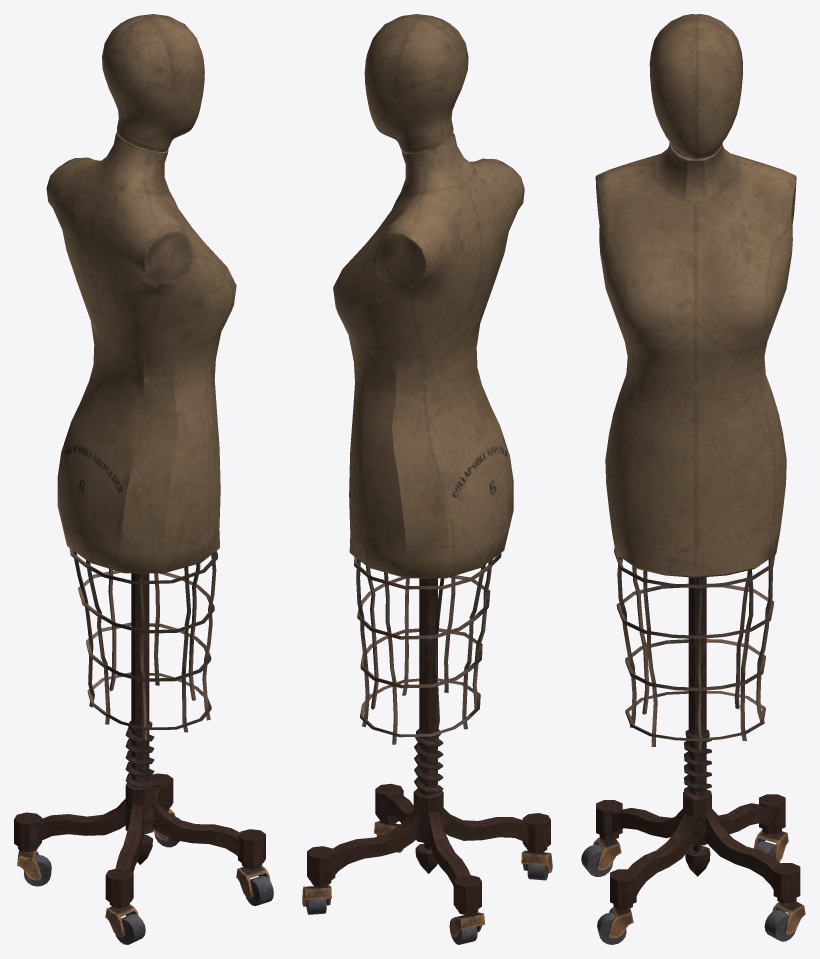
The model's file is mannequin-dress-form.glb.
The picture shows the model from 3 angles, left to right: view 1: azimuth 30°, elevation 25°; view 2: azimuth 150°, elevation 25°; view 3: azimuth 270°, elevation 25°; orthographic projection.
Visible parts, largest first — view 1: mannequin-dress-form; view 2: mannequin-dress-form; view 3: mannequin-dress-form.
Part boxes in pixels (x1,y1,x2,y2): mannequin-dress-form: [14, 14, 273, 944]; mannequin-dress-form: [302, 14, 552, 944]; mannequin-dress-form: [581, 14, 805, 944].
Size of the model in its own units: 0.3816 by 1.79 by 0.409.
2 materials, 2 textured.
